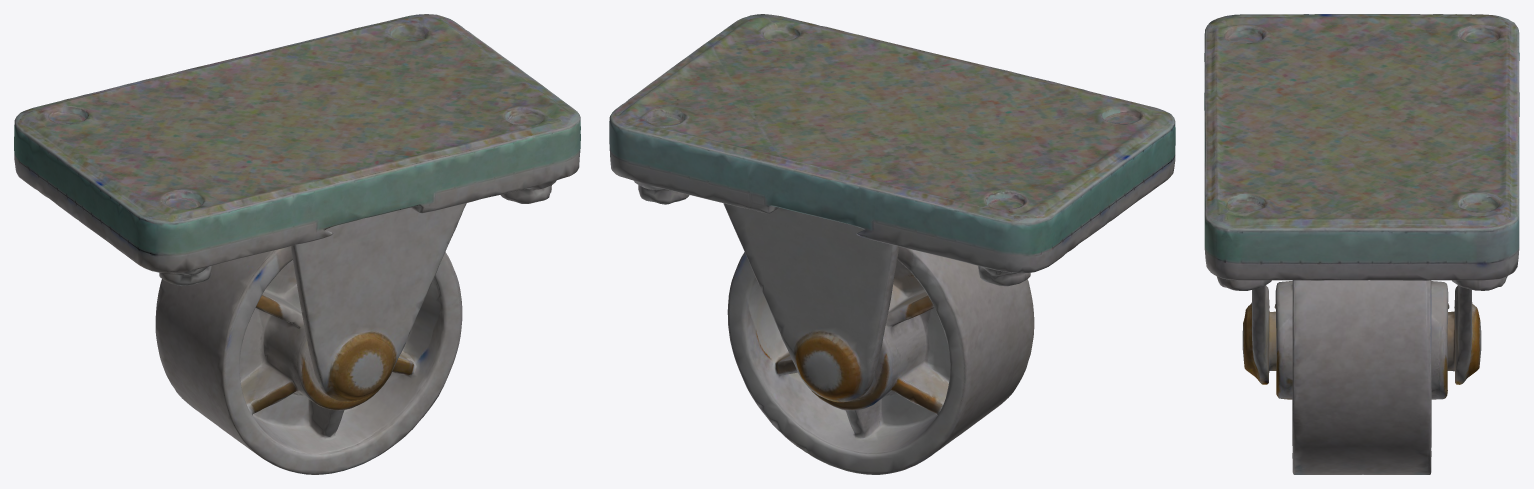
The model's file is img3.glb.
3 views of the same model, side by side, from view 1: azimuth 30°, elevation 25°; view 2: azimuth 150°, elevation 25°; view 3: azimuth 270°, elevation 25° (orthographic).
Visible parts, largest first — view 1: file1; view 2: file1; view 3: file1.
Boxes of the visible parts, <box> form: file1: <box>14,14,580,474</box>; file1: <box>609,14,1175,474</box>; file1: <box>1204,14,1519,474</box>.
Size of the model in its own units: 2 by 1.46 by 1.23.
1 material, 1 textured.
